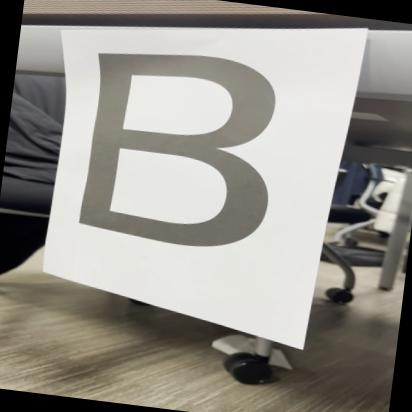seat: (50, 39, 332, 280)
